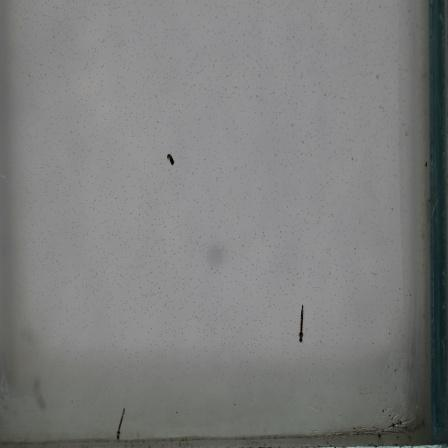Jentik-Nyamuk: (293, 303, 308, 348), (113, 404, 130, 442), (165, 151, 178, 168)
